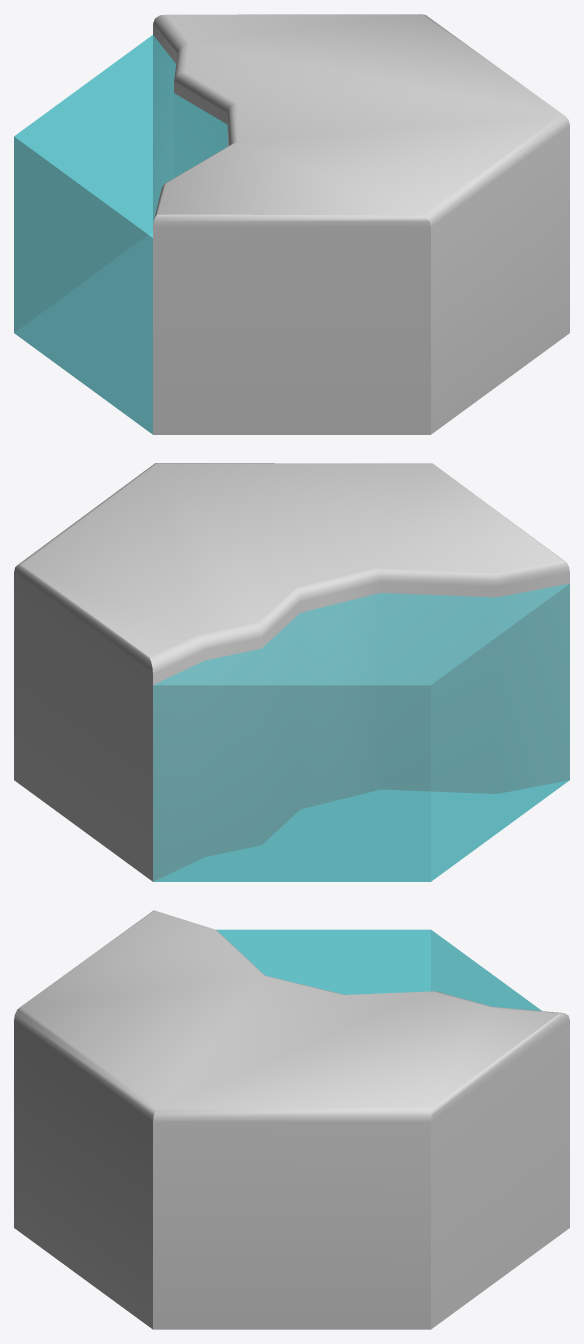
File: hex_snow_waterD.fbx
3 views of the same model, one above another, from view 1: azimuth 30°, elevation 25°; view 2: azimuth 150°, elevation 25°; view 3: azimuth 270°, elevation 25° (orthographic).
Visible parts, largest first — view 1: hex_snow_waterD; view 2: hex_snow_waterD; view 3: hex_snow_waterD.
Part boxes in pixels (bbox=[...]): hex_snow_waterD: bbox=[14, 14, 569, 434]; hex_snow_waterD: bbox=[14, 463, 569, 881]; hex_snow_waterD: bbox=[14, 910, 569, 1329].
Bounding box in the file's own units: 2 × 1 × 2.31.
